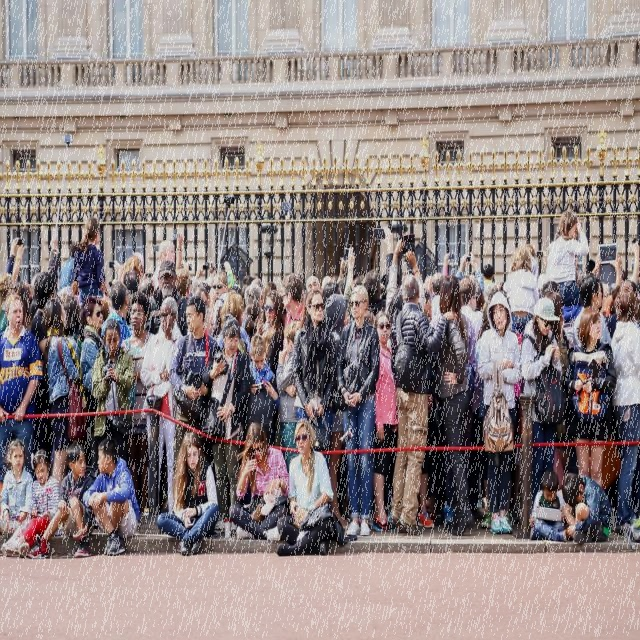pessoa: (388, 274, 459, 536), (430, 272, 482, 538), (168, 294, 220, 515), (477, 290, 522, 536), (201, 312, 250, 536), (336, 284, 378, 541), (0, 291, 44, 521), (563, 305, 617, 489), (23, 438, 99, 565), (520, 296, 564, 510), (142, 295, 184, 515), (290, 286, 338, 476), (156, 430, 221, 558), (276, 418, 335, 558), (226, 419, 290, 547), (120, 291, 154, 520), (610, 285, 640, 537), (81, 434, 140, 560), (42, 297, 80, 489), (3, 445, 62, 568), (324, 292, 352, 533), (29, 269, 62, 468), (90, 318, 133, 468), (372, 310, 398, 532), (79, 294, 107, 480), (544, 208, 590, 306), (242, 332, 281, 446), (274, 321, 302, 474), (31, 232, 63, 358), (562, 472, 616, 546), (384, 236, 427, 321), (526, 466, 571, 546), (500, 243, 540, 331), (572, 272, 614, 354), (148, 258, 190, 336), (72, 216, 105, 305), (1, 438, 34, 524), (216, 290, 253, 364), (0, 238, 28, 334), (322, 246, 356, 324), (256, 288, 285, 375), (606, 276, 639, 342), (101, 280, 132, 346), (544, 291, 568, 370), (582, 243, 640, 274), (458, 276, 484, 338), (62, 294, 84, 364), (280, 271, 306, 328), (56, 241, 82, 296), (224, 262, 278, 288), (240, 282, 266, 332), (152, 238, 176, 290), (14, 278, 36, 334), (361, 272, 388, 316), (212, 270, 230, 328), (480, 263, 500, 311), (436, 248, 476, 270), (244, 298, 261, 341), (114, 246, 144, 268), (174, 266, 192, 298), (199, 306, 216, 338), (322, 282, 344, 306), (123, 266, 141, 294), (422, 286, 435, 324), (192, 262, 210, 288), (538, 280, 562, 298), (305, 272, 322, 294), (422, 289, 432, 320)
